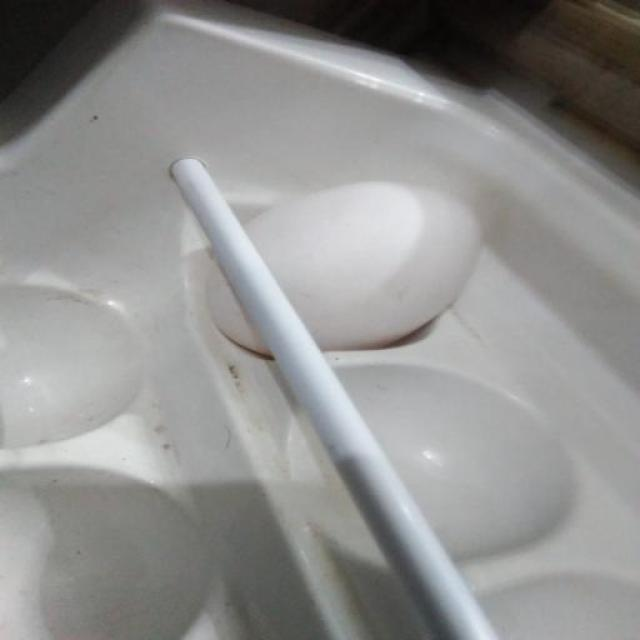telur: (202, 178, 481, 360)
